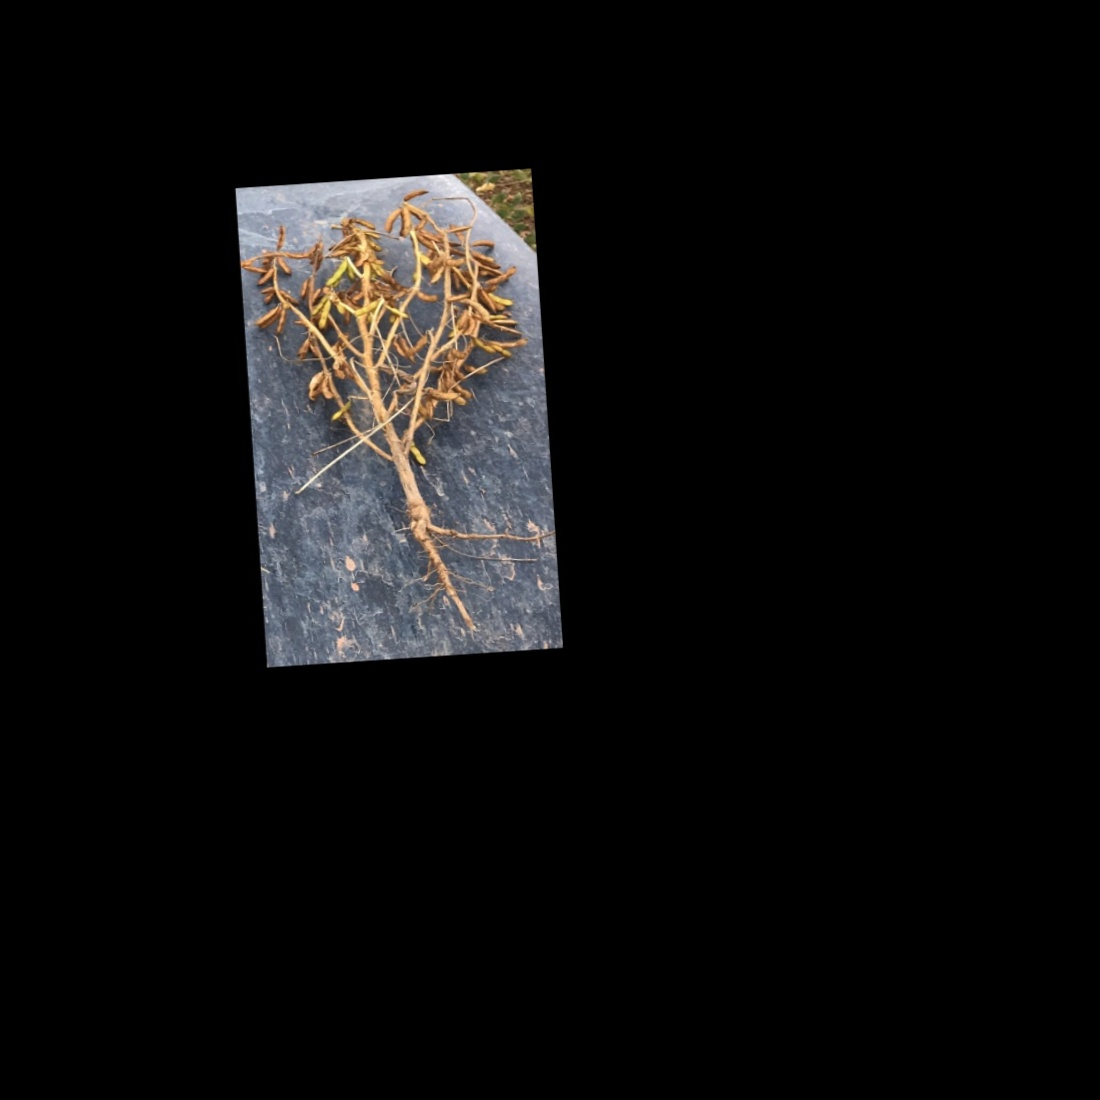pod: (314, 296, 338, 332), (322, 256, 350, 287), (483, 264, 522, 285), (381, 207, 404, 236), (423, 387, 462, 404), (400, 185, 432, 204), (272, 304, 290, 336), (273, 254, 296, 279), (470, 336, 496, 358), (410, 290, 441, 305), (253, 268, 275, 288), (350, 216, 379, 231), (468, 237, 499, 251)
soy: (242, 178, 547, 630)
